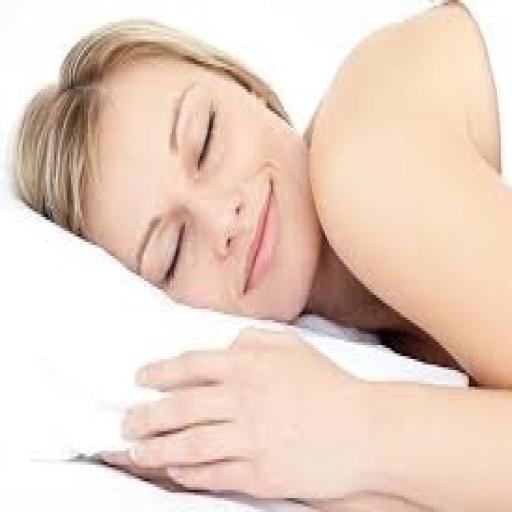sleeping: (9, 0, 510, 509)
